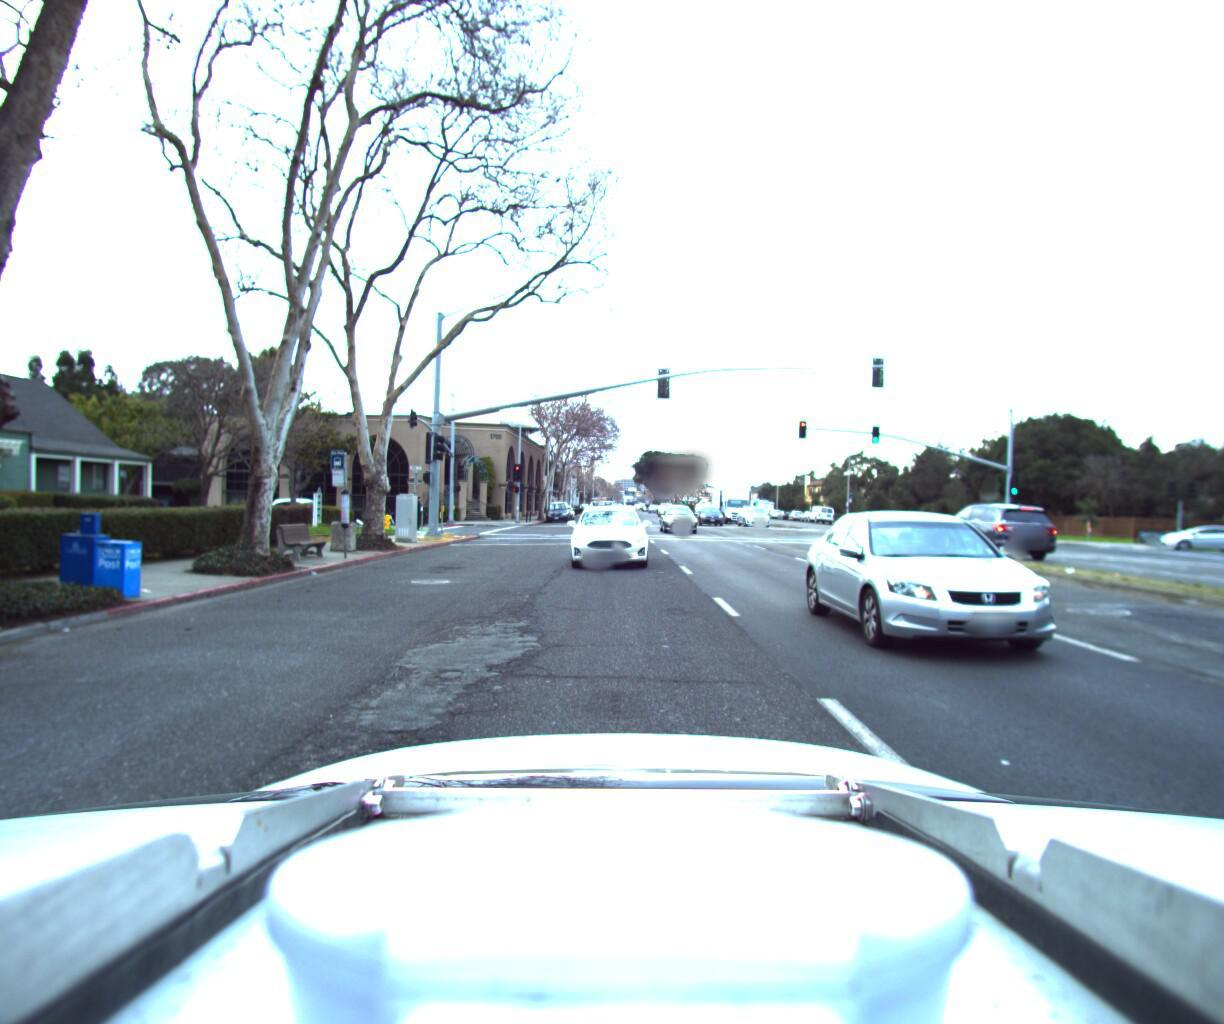bicycle: (400, 488, 447, 525)
car: (815, 488, 1198, 708), (932, 493, 1069, 558), (567, 493, 650, 566), (263, 490, 347, 522), (1151, 516, 1224, 548), (656, 497, 701, 531), (580, 491, 617, 521), (695, 494, 729, 522), (735, 497, 772, 520), (544, 493, 572, 516)
truck: (708, 478, 755, 518)
